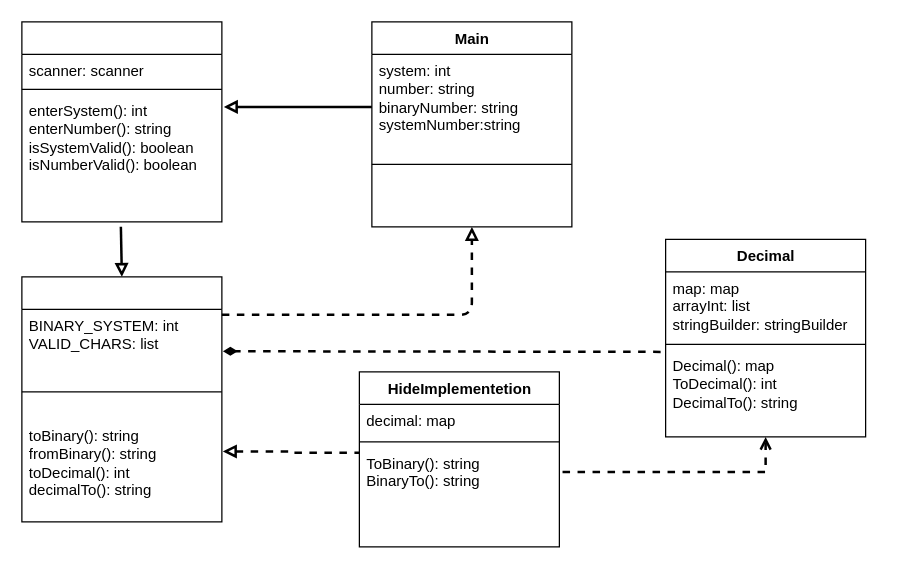
Image size: 906x573. Some labels were removed from this diagram. The shapes that lost their labels are listed below. From the top down, each one's box as (x1, y1, x2, y2) in pixels, then its label:
(21, 21, 222, 222): InputHelper
(21, 276, 222, 522): Converter
